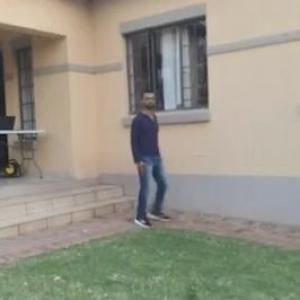follow: (128, 84, 172, 230)
